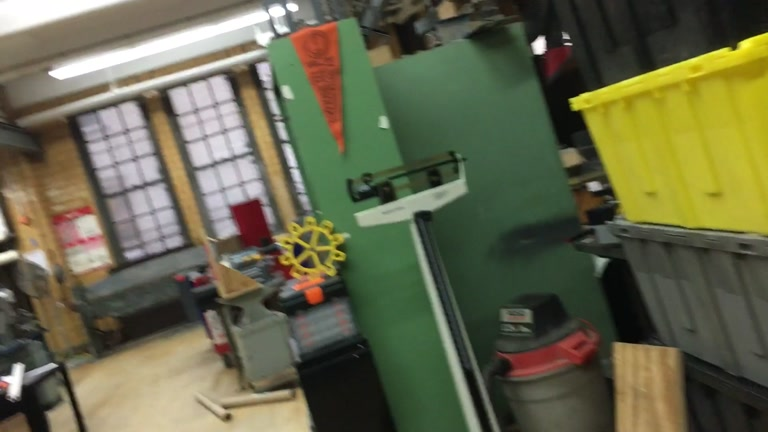gear: (277, 215, 346, 284)
